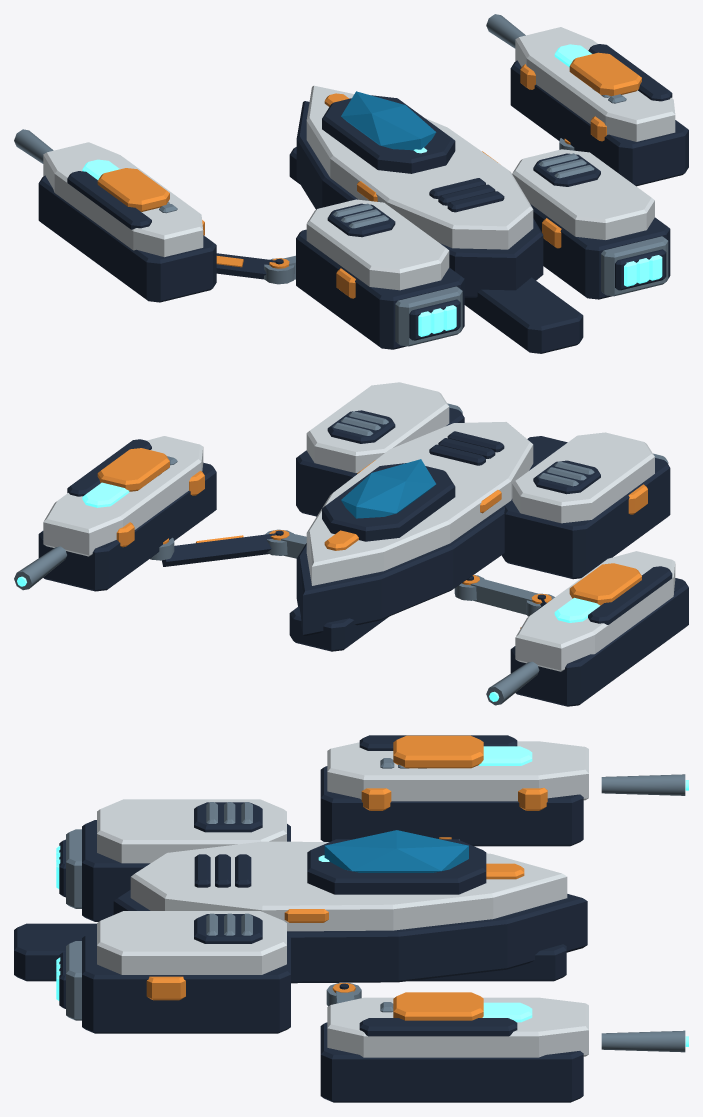
The model's file is modular-interceptor-attack.glb.
3 renders of one model, top to bottom at view 1: azimuth 30°, elevation 25°; view 2: azimuth 150°, elevation 25°; view 3: azimuth 270°, elevation 25°, orthographic. The views are drawn at different scales.
Visible parts, largest first — view 1: Core_Armor, Weapon_Underbody_L, Drive_Shell_L, Drive_Shell_R, Weapon_Shell_R, Weapon_Underbody_R, Weapon_Shell_L, Core_Underbody, Drive_Chassis_L, Backbone, Drive_Chassis_R, Canopy_Gasket (+18 smaller); view 2: Core_Armor, Core_Underbody, Drive_Chassis_L, Drive_Shell_L, Weapon_Shell_R, Weapon_Underbody_L, Weapon_Shell_L, Drive_Shell_R, Weapon_Underbody_R, Canopy_Gasket, Smoked_Canopy, Backbone (+16 smaller); view 3: Core_Armor, Core_Underbody, Weapon_Underbody_R, Drive_Chassis_R, Weapon_Underbody_L, Weapon_Shell_L, Weapon_Shell_R, Drive_Shell_R, Drive_Shell_L, Backbone, Canopy_Gasket, Smoked_Canopy (+19 smaller).
Boxes of the visible parts, <box> form: Core_Armor: <box>306,85,533,249</box>; Weapon_Underbody_L: <box>38,175,216,302</box>; Drive_Shell_L: <box>306,199,449,290</box>; Drive_Shell_R: <box>512,149,654,239</box>; Weapon_Shell_R: <box>515,27,675,141</box>; Weapon_Underbody_R: <box>510,60,688,186</box>; Weapon_Shell_L: <box>43,142,203,257</box>; Core_Underbody: <box>296,101,543,297</box>; Drive_Chassis_L: <box>296,229,464,349</box>; Backbone: <box>289,147,583,353</box>; Drive_Chassis_R: <box>530,204,670,299</box>; Canopy_Gasket: <box>322,95,455,173</box>; Core_Armor: <box>306,422,533,585</box>; Core_Underbody: <box>296,454,541,635</box>; Drive_Chassis_L: <box>502,458,670,579</box>; Drive_Shell_L: <box>512,432,654,523</box>; Weapon_Shell_R: <box>43,436,203,556</box>; Weapon_Underbody_L: <box>510,578,688,706</box>; Weapon_Shell_L: <box>515,551,675,671</box>; Drive_Shell_R: <box>306,382,449,472</box>; Weapon_Underbody_R: <box>38,462,216,591</box>; Canopy_Gasket: <box>322,463,455,541</box>; Smoked_Canopy: <box>341,459,435,518</box>; Backbone: <box>289,436,567,651</box>; Core_Armor: <box>130,841,567,931</box>; Core_Underbody: <box>113,890,587,983</box>; Weapon_Underbody_R: <box>320,1022,583,1102</box>; Drive_Chassis_R: <box>82,931,290,1033</box>; Weapon_Underbody_L: <box>320,766,583,846</box>; Weapon_Shell_L: <box>327,741,588,801</box>; Weapon_Shell_R: <box>327,997,588,1057</box>; Drive_Shell_R: <box>97,911,286,974</box>; Drive_Shell_L: <box>97,799,286,863</box>; Backbone: <box>14,923,566,981</box>; Canopy_Gasket: <box>307,839,486,894</box>; Smoked_Canopy: <box>324,830,468,872</box>.
Size of the model in its own units: 5.17 by 1.13 by 5.01.
